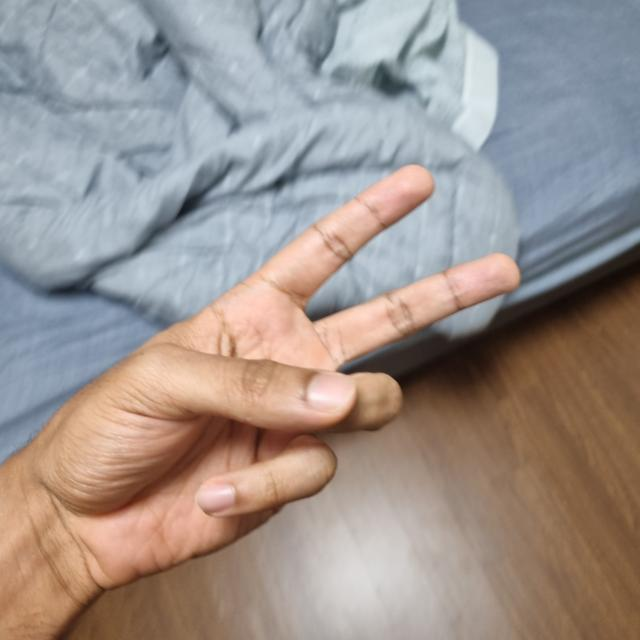Scissors: (26, 173, 509, 577)
